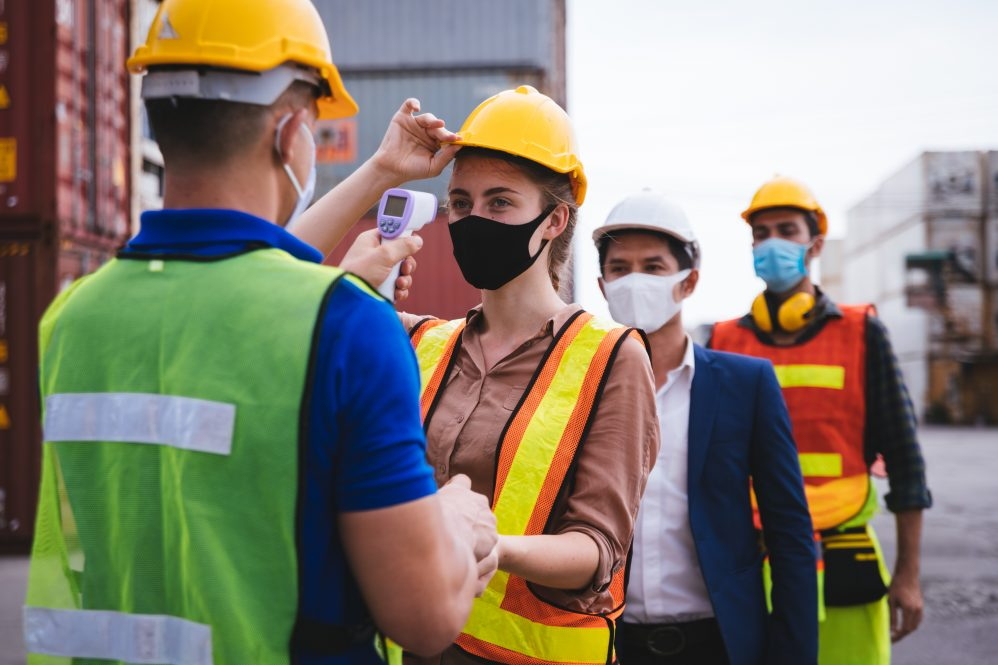Helmet: (127, 1, 366, 121), (443, 80, 598, 208), (589, 184, 705, 263), (738, 172, 833, 230)
Mask: (439, 199, 566, 293), (595, 265, 699, 332), (280, 124, 324, 233), (752, 237, 809, 295)
Safety_Jacket: (20, 240, 398, 665), (391, 304, 641, 665), (708, 299, 898, 534)
